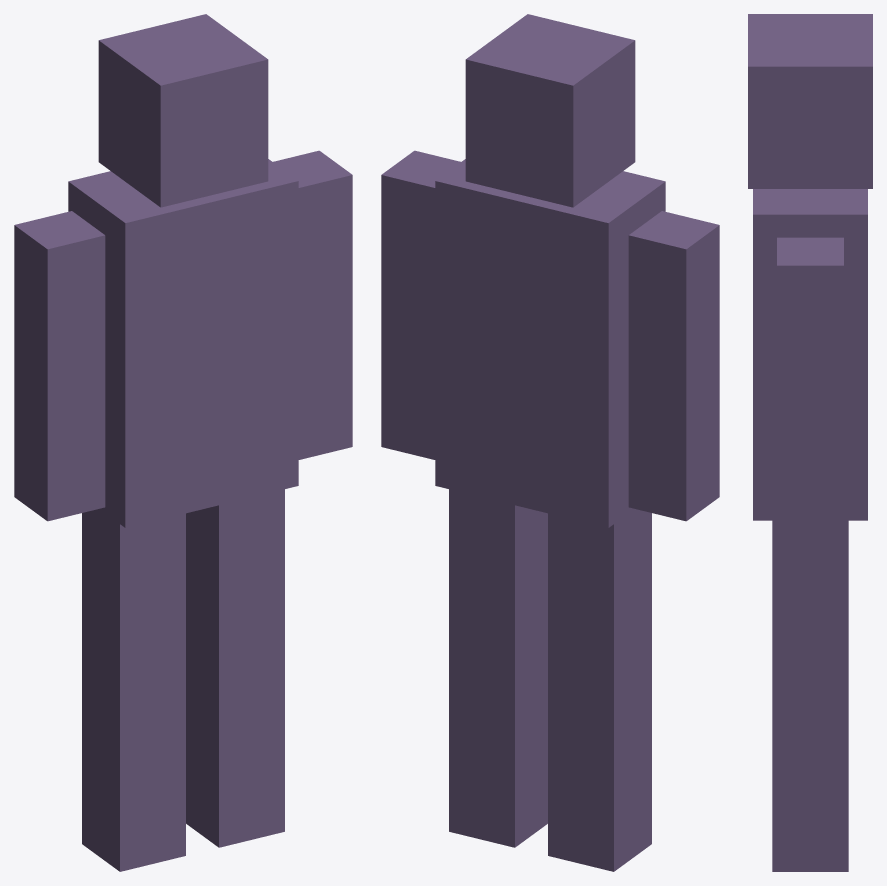
Rendered from necromancer.glb.
3 views of the same model, side by side, from view 1: azimuth 30°, elevation 25°; view 2: azimuth 150°, elevation 25°; view 3: azimuth 270°, elevation 25° (orthographic).
Parts seen in each view (by area): view 1: necromancer; view 2: necromancer; view 3: necromancer.
Boxes of the visible parts, bbox=[...] form: necromancer: bbox=[14, 14, 352, 871]; necromancer: bbox=[381, 14, 719, 871]; necromancer: bbox=[748, 14, 872, 871].
Size of the model in its own units: 0.6808 by 1.68 by 0.24.
